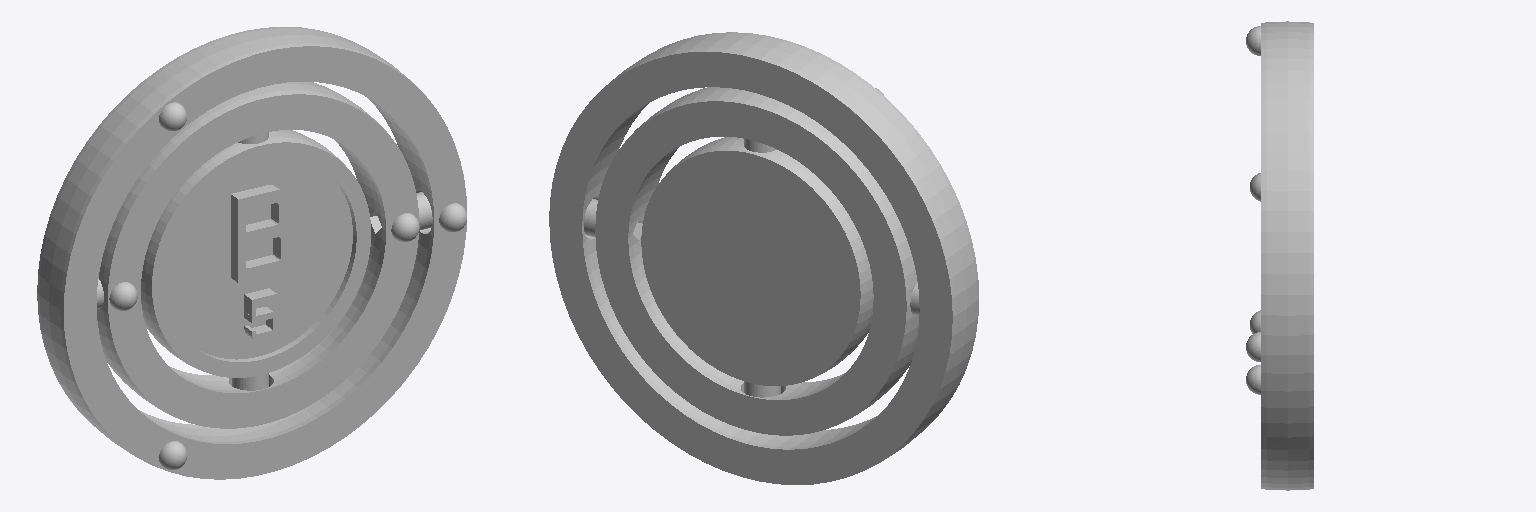
The model's file is 005_-_B_-_Boron.obj.
The picture shows the model from 3 angles: view 1: azimuth 30°, elevation 25°; view 2: azimuth 150°, elevation 25°; view 3: azimuth 270°, elevation 25°; orthographic projection.
Visible parts, largest first — view 1: Object.3, Object.1, Object.2; view 2: Object.3, Object.1, Object.2; view 3: Object.3.
Boxes of the visible parts, <box> form: Object.3: <box>37,27,466,479</box>; Object.1: <box>141,130,370,390</box>; Object.2: <box>97,82,432,428</box>; Object.3: <box>549,32,978,484</box>; Object.1: <box>641,137,873,397</box>; Object.2: <box>584,87,919,435</box>; Object.3: <box>1246,21,1313,490</box>.
Bounding box in the file's own units: 62 × 61.94 × 9.